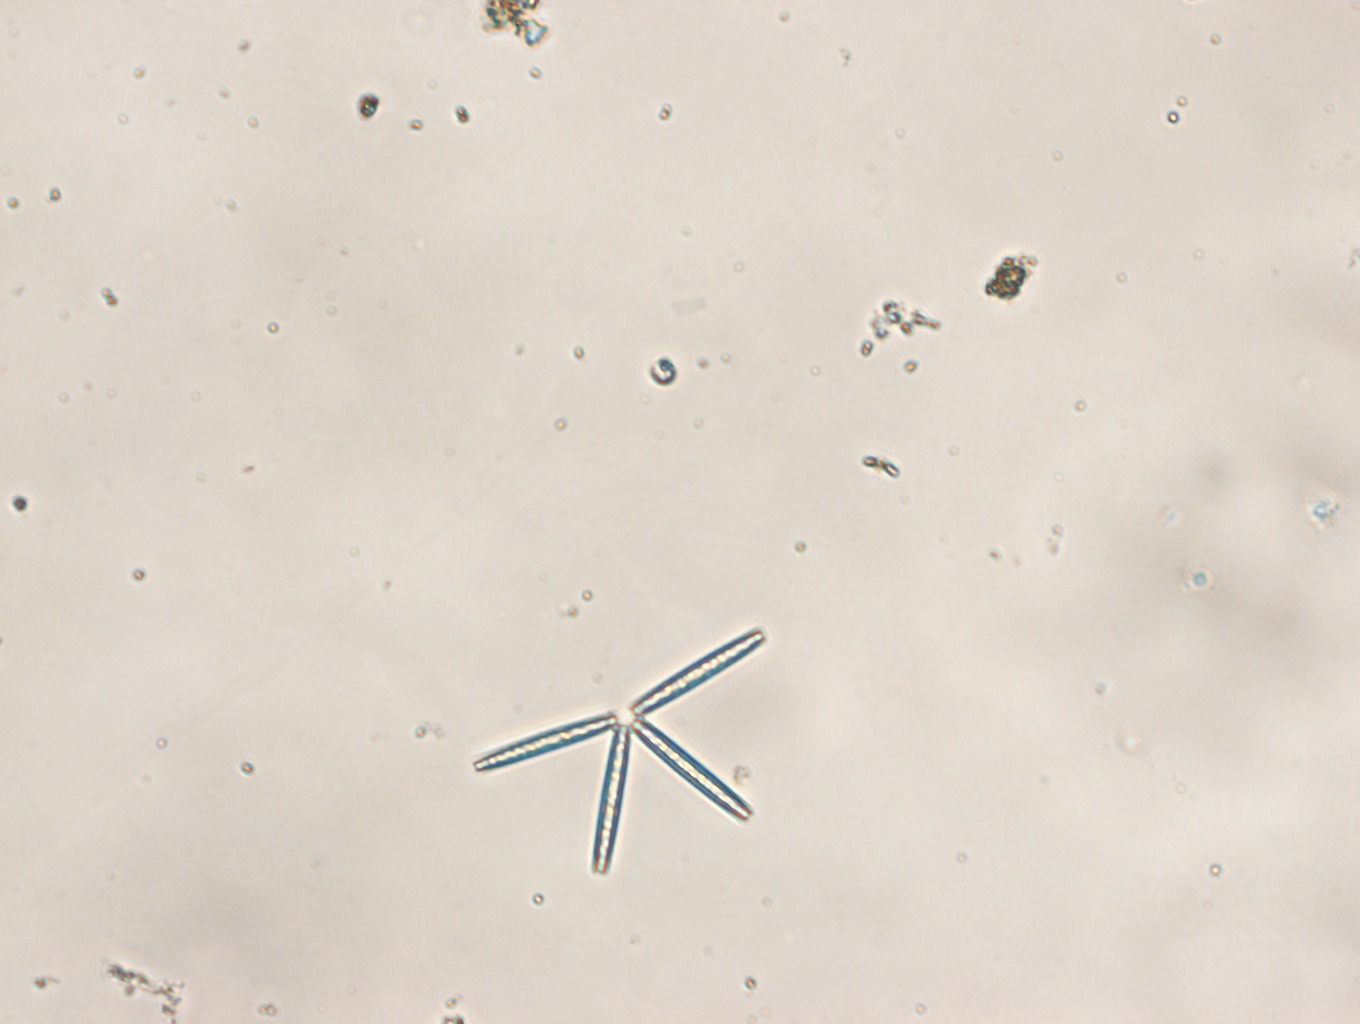thalassionema nitzschioides: (473, 626, 767, 873)
